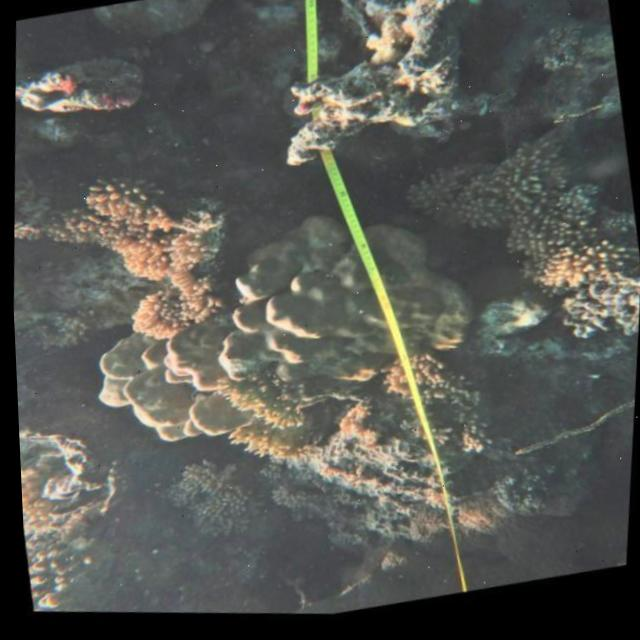Healthy Coral: (74, 134, 244, 353), (487, 134, 640, 323), (404, 133, 533, 251), (159, 443, 261, 558)
